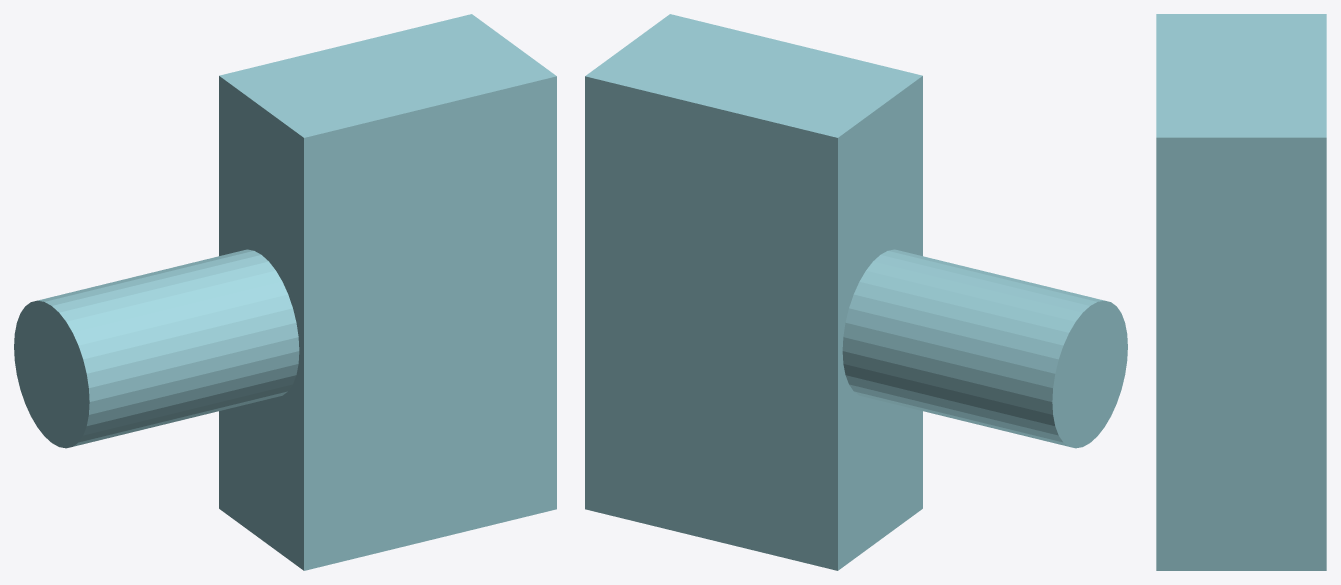
Rendered from cylinder_brush_v11015.obj.
3 views of the same model, side by side, from view 1: azimuth 30°, elevation 25°; view 2: azimuth 150°, elevation 25°; view 3: azimuth 270°, elevation 25° (orthographic).
Size of the model in its own units: 0.1168 by 0.1045 by 0.0372.
Materials: 1 (1 with a texture image).
